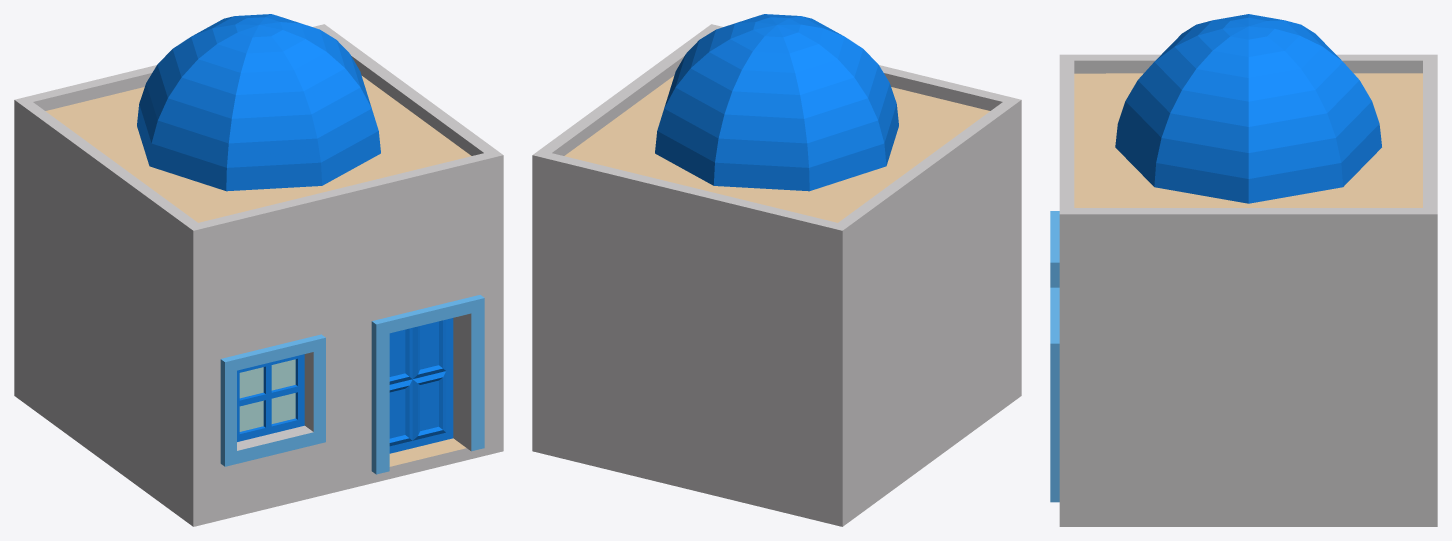
Rendered from house_01c.fbx.
The picture shows the model from 3 angles, left to right: view 1: azimuth 30°, elevation 25°; view 2: azimuth 150°, elevation 25°; view 3: azimuth 270°, elevation 25°; orthographic projection. The views are drawn at different scales.
Visible parts, largest first — view 1: house_01c; view 2: house_01c; view 3: house_01c.
Part boxes in pixels (x1,y1,x2,y2): house_01c: (14, 14, 503, 526); house_01c: (532, 14, 1021, 526); house_01c: (1050, 14, 1437, 526).
Size of the model in its own units: 400 by 491 by 410.
